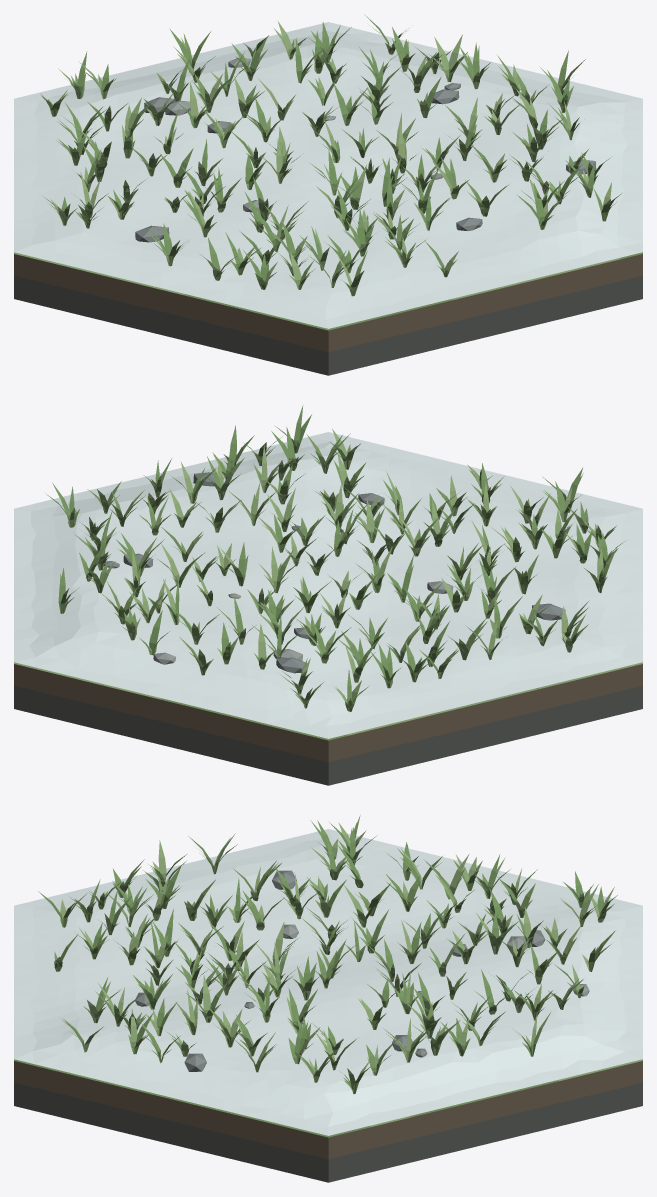
File: grassland.glb
The picture shows the model from 3 angles, top to bottom: view 1: azimuth 30°, elevation 25°; view 2: azimuth 150°, elevation 25°; view 3: azimuth 270°, elevation 25°; orthographic projection.
Visible parts, largest first — view 1: SnowZone.006_mesh, LandformRoot_mesh, SnowZone.005_mesh, SnowZone.001_mesh, SnowZone_mesh, SnowZone.004_mesh, SnowZone.003_mesh, SnowZone.002_mesh, SnowZone.007_mesh, TerrainGrass.026_mesh, TerrainGrass.092_mesh; view 2: SnowZone.006_mesh, LandformRoot_mesh, SnowZone.005_mesh, SnowZone.001_mesh, SnowZone_mesh, SnowZone.004_mesh, SnowZone.003_mesh, SnowZone.002_mesh, SnowZone.007_mesh; view 3: SnowZone.006_mesh, LandformRoot_mesh, SnowZone.005_mesh, SnowZone.001_mesh, SnowZone_mesh, SnowZone.004_mesh, SnowZone.003_mesh, SnowZone.002_mesh, SnowZone.007_mesh.
Part boxes in pixels (x1,y1,x2,y2): SnowZone.006_mesh: (14,22,642,328); LandformRoot_mesh: (14,57,642,375); SnowZone.005_mesh: (33,34,627,290); SnowZone.001_mesh: (158,42,602,212); SnowZone_mesh: (201,41,581,194); SnowZone.004_mesh: (56,37,626,273); SnowZone.003_mesh: (78,37,605,235); SnowZone.002_mesh: (117,41,603,220); SnowZone.007_mesh: (31,51,626,319); TerrainGrass.026_mesh: (429,34,467,81); TerrainGrass.092_mesh: (458,42,490,89); SnowZone.006_mesh: (14,432,642,738); LandformRoot_mesh: (14,472,642,785); SnowZone.005_mesh: (30,446,626,724); SnowZone.001_mesh: (59,462,311,677); SnowZone_mesh: (72,474,285,665); SnowZone.004_mesh: (52,448,520,716); SnowZone.003_mesh: (52,451,370,705); SnowZone.002_mesh: (52,456,330,689); SnowZone.007_mesh: (31,461,626,715); SnowZone.006_mesh: (14,829,642,1135); LandformRoot_mesh: (14,870,642,1182); SnowZone.005_mesh: (33,841,626,1114); SnowZone.001_mesh: (114,948,584,1100); SnowZone_mesh: (158,961,584,1087); SnowZone.004_mesh: (59,879,626,1111); SnowZone.003_mesh: (74,911,605,1106); SnowZone.002_mesh: (95,927,605,1104); SnowZone.007_mesh: (30,849,575,1126).
Bounding box in the file's own units: 3.5 × 0.5133 × 3.03.
